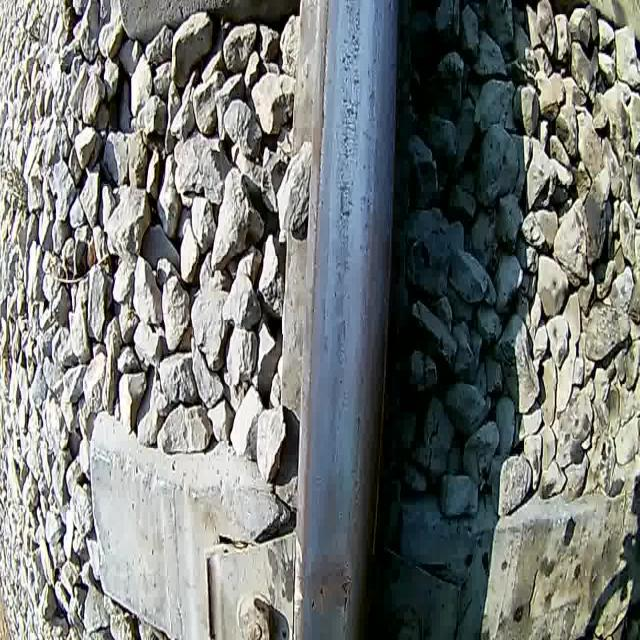Spallings: (337, 551, 354, 621)
Squats: (300, 544, 354, 624)
